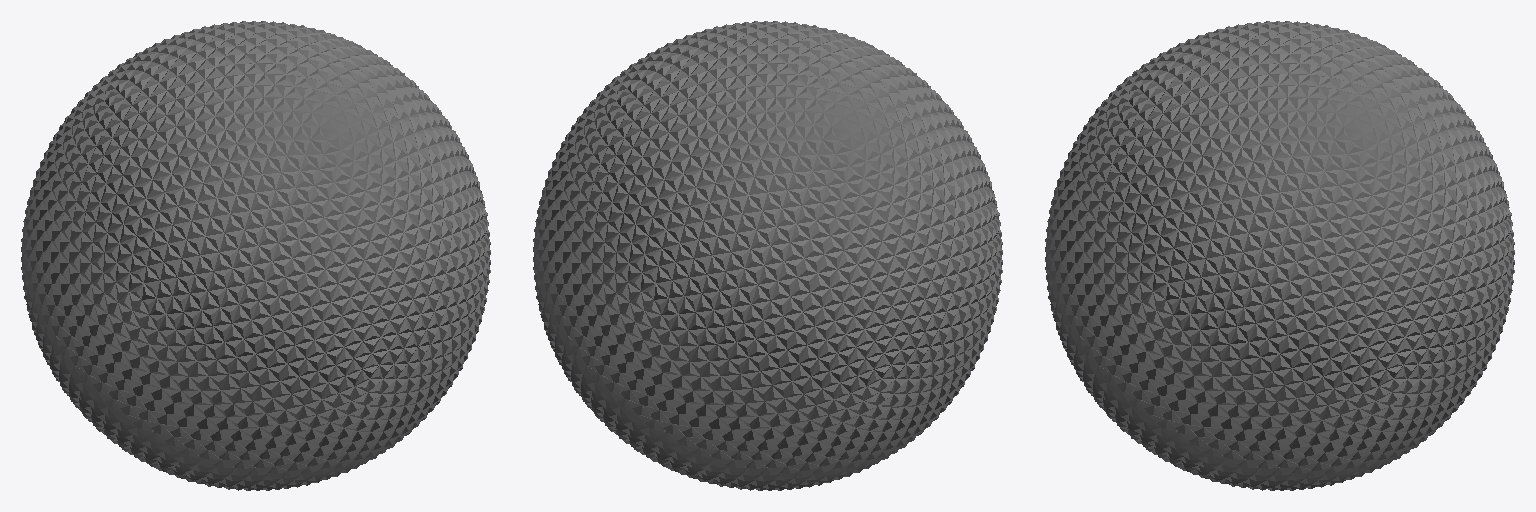
The model's file is epcot.obj.
3 views of the same model, side by side, from view 1: azimuth 30°, elevation 25°; view 2: azimuth 150°, elevation 25°; view 3: azimuth 270°, elevation 25° (orthographic).
Visible parts, largest first — view 1: mesh1.116_mesh1-geometry, mesh1.115_mesh1-geometry, mesh1.078_mesh1-geometry, mesh1.118_mesh1-geometry, mesh1.119_mesh1-geometry, mesh1.123_mesh1-geometry, mesh1.113_mesh1-geometry, mesh1.069_mesh1-geometry, mesh1.109_mesh1-geometry, mesh1.067_mesh1-geometry, mesh1.084_mesh1-geometry, mesh1.073_mesh1-geometry (+22 smaller); view 2: mesh1.091_mesh1-geometry, mesh1.092_mesh1-geometry, mesh1.074_mesh1-geometry, mesh1.111_mesh1-geometry, mesh1.110_mesh1-geometry, mesh1.103_mesh1-geometry, mesh1.108_mesh1-geometry, mesh1.099_mesh1-geometry, mesh1.125_mesh1-geometry, mesh1.073_mesh1-geometry, mesh1.075_mesh1-geometry, mesh1.122_mesh1-geometry (+22 smaller); view 3: mesh1.089_mesh1-geometry, mesh1.126_mesh1-geometry, mesh1.065_mesh1-geometry, mesh1.120_mesh1-geometry, mesh1.066_mesh1-geometry, mesh1.104_mesh1-geometry, mesh1.068_mesh1-geometry, mesh1.088_mesh1-geometry, mesh1.097_mesh1-geometry, mesh1.122_mesh1-geometry, mesh1.082_mesh1-geometry, mesh1.067_mesh1-geometry (+22 smaller).
Boxes of the visible parts, x1,y1,x2,y2 form: mesh1.116_mesh1-geometry: [142, 156, 285, 299]; mesh1.115_mesh1-geometry: [179, 140, 325, 276]; mesh1.078_mesh1-geometry: [142, 278, 284, 417]; mesh1.118_mesh1-geometry: [286, 140, 428, 276]; mesh1.119_mesh1-geometry: [227, 278, 369, 417]; mesh1.123_mesh1-geometry: [286, 243, 428, 377]; mesh1.113_mesh1-geometry: [54, 156, 177, 299]; mesh1.069_mesh1-geometry: [179, 46, 325, 155]; mesh1.109_mesh1-geometry: [83, 301, 225, 417]; mesh1.067_mesh1-geometry: [327, 99, 432, 241]; mesh1.084_mesh1-geometry: [51, 221, 141, 381]; mesh1.073_mesh1-geometry: [54, 89, 177, 219]; mesh1.091_mesh1-geometry: [654, 156, 797, 299]; mesh1.092_mesh1-geometry: [691, 140, 837, 276]; mesh1.074_mesh1-geometry: [654, 278, 796, 417]; mesh1.111_mesh1-geometry: [798, 140, 940, 276]; mesh1.110_mesh1-geometry: [739, 278, 881, 417]; mesh1.103_mesh1-geometry: [798, 243, 940, 377]; mesh1.108_mesh1-geometry: [566, 156, 689, 299]; mesh1.099_mesh1-geometry: [691, 46, 837, 155]; mesh1.125_mesh1-geometry: [595, 301, 737, 417]; mesh1.073_mesh1-geometry: [839, 99, 944, 241]; mesh1.075_mesh1-geometry: [563, 221, 653, 381]; mesh1.122_mesh1-geometry: [566, 89, 689, 219]; mesh1.089_mesh1-geometry: [1166, 156, 1309, 299]; mesh1.126_mesh1-geometry: [1203, 140, 1349, 276]; mesh1.065_mesh1-geometry: [1166, 278, 1308, 417]; mesh1.120_mesh1-geometry: [1310, 140, 1452, 276]; mesh1.066_mesh1-geometry: [1251, 278, 1393, 417]; mesh1.104_mesh1-geometry: [1310, 243, 1452, 377]; mesh1.068_mesh1-geometry: [1078, 156, 1201, 299]; mesh1.088_mesh1-geometry: [1203, 46, 1349, 155]; mesh1.097_mesh1-geometry: [1107, 301, 1249, 417]; mesh1.122_mesh1-geometry: [1351, 99, 1456, 241]; mesh1.082_mesh1-geometry: [1075, 221, 1165, 381]; mesh1.067_mesh1-geometry: [1078, 89, 1201, 219].
Size of the model in its own units: 0.618 by 0.618 by 0.6187.